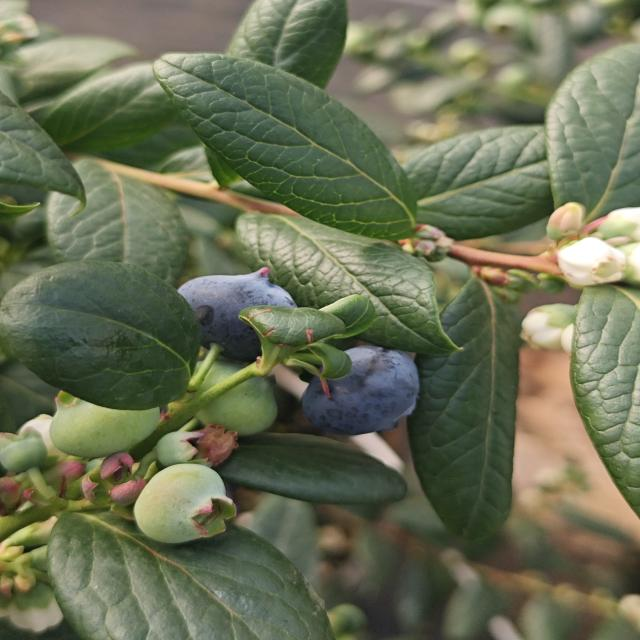ripe: (297, 341, 428, 441), (167, 267, 302, 360)
